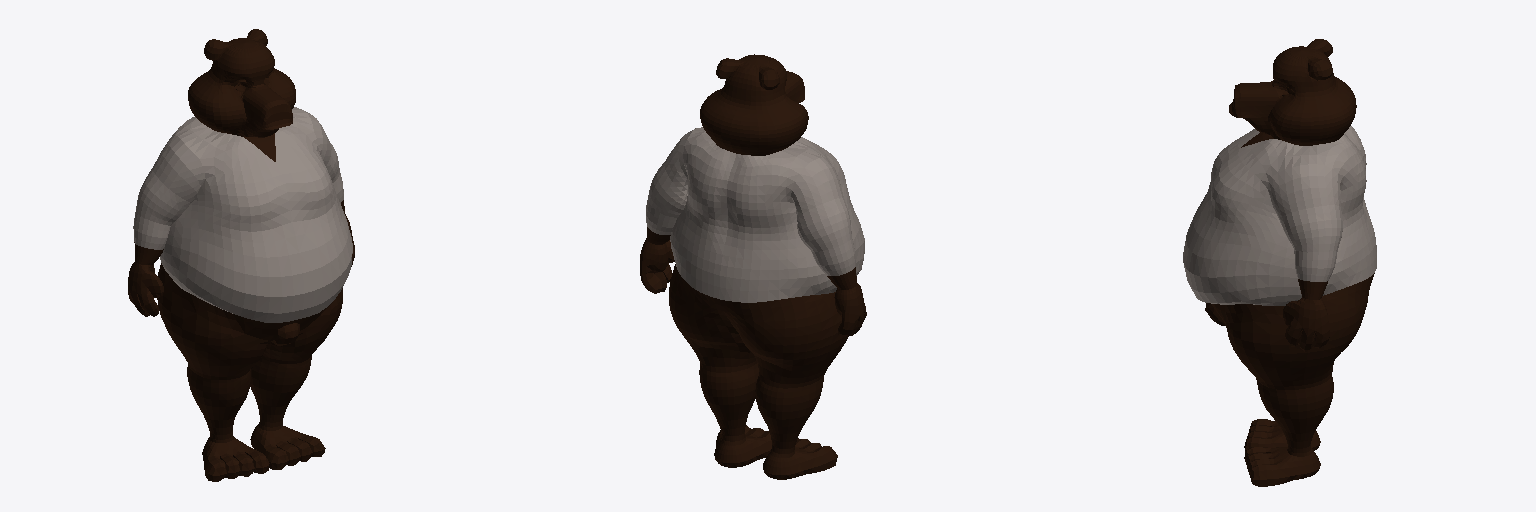
The model's file is dog.obj.
3 renders of one model, left to right at view 1: azimuth 30°, elevation 25°; view 2: azimuth 150°, elevation 25°; view 3: azimuth 270°, elevation 25°, orthographic.
Parts seen in each view (by area): view 1: Body; view 2: Body; view 3: Body.
Boxes of the visible parts, x1=… form: Body: x1=128, y1=29, x2=354, y2=481; Body: x1=640, y1=54, x2=866, y2=479; Body: x1=1183, y1=39, x2=1376, y2=486.
Size of the model in its own units: 2.65 by 4.76 by 2.04.